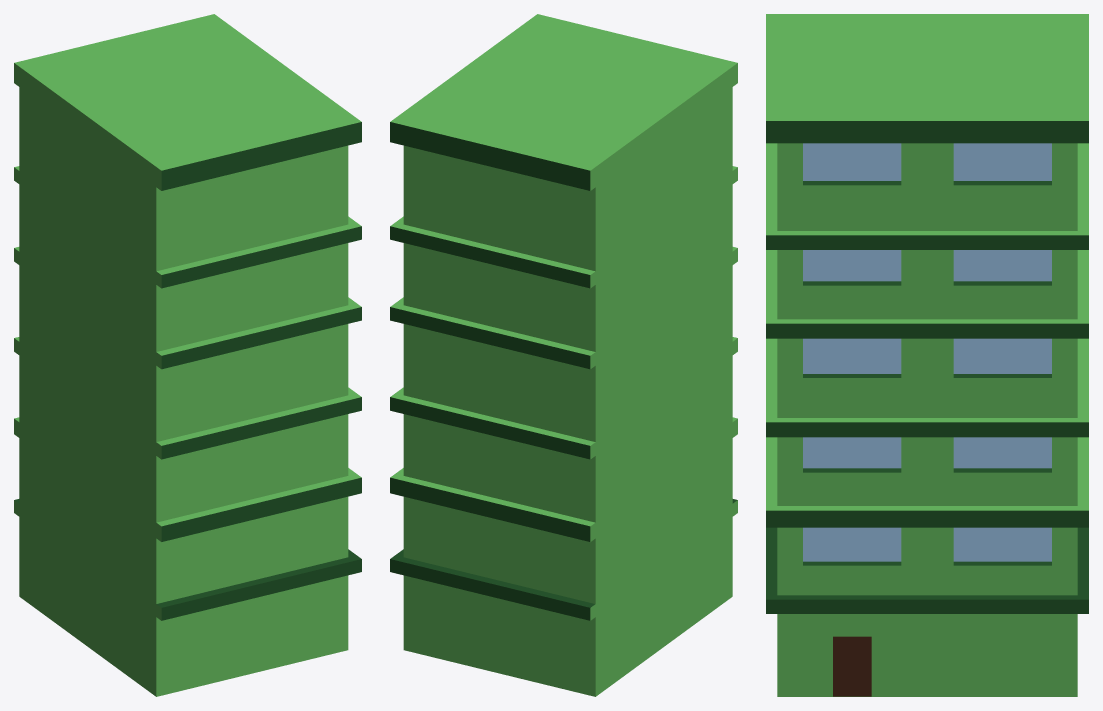
File: green building 2.fbx
The picture shows the model from 3 angles, left to right: view 1: azimuth 30°, elevation 25°; view 2: azimuth 150°, elevation 25°; view 3: azimuth 270°, elevation 25°; orthographic projection. The views are drawn at different scales.
Visible parts, largest first — view 1: Cube; view 2: Cube; view 3: Cube.
Boxes of the visible parts, bbox=[...] form: Cube: bbox=[14, 14, 361, 696]; Cube: bbox=[390, 14, 737, 696]; Cube: bbox=[766, 14, 1088, 696].
Size of the model in its own units: 209 by 527 by 266.
